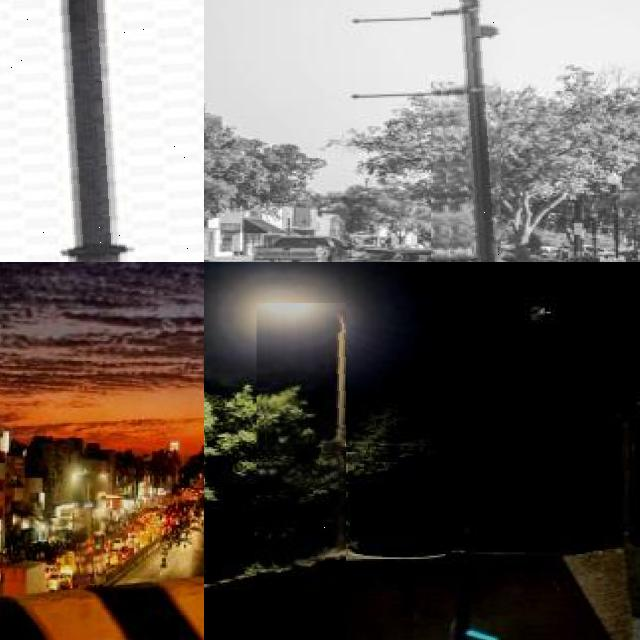street light: (0, 0, 204, 262), (256, 303, 346, 640), (431, 0, 500, 262), (74, 475, 106, 585), (606, 169, 624, 262), (638, 221, 640, 258)
